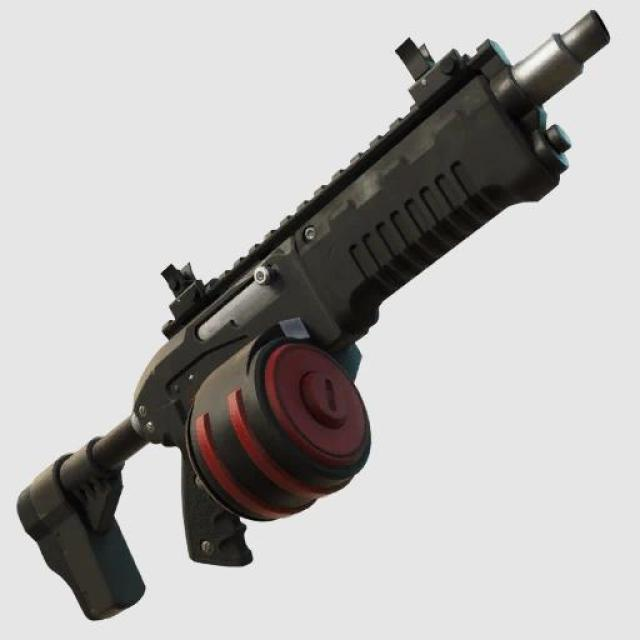weapon: (11, 5, 622, 629)
